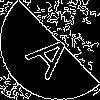A: (25, 25, 83, 81)
